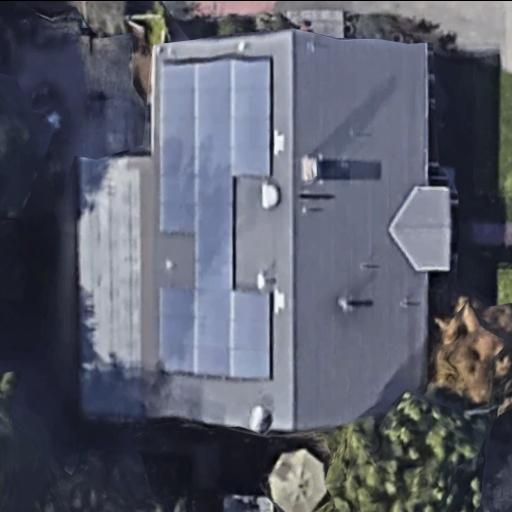Solar-Slope-Roof: (78, 27, 449, 430)
